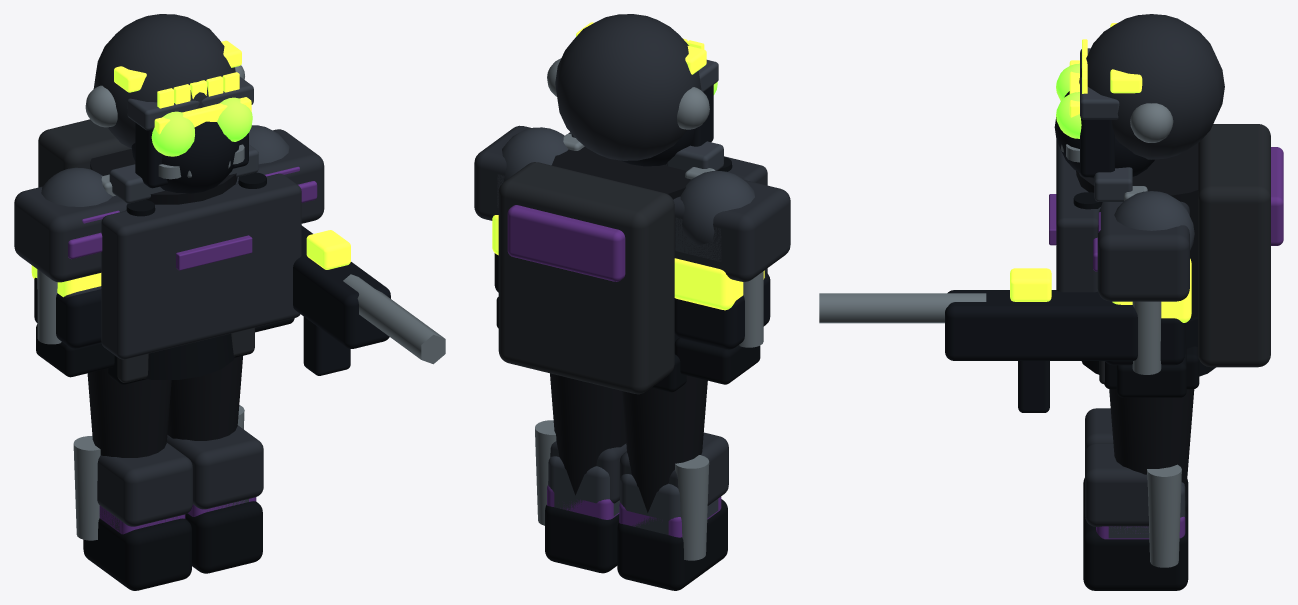
Rendered from sentinel_l05.glb.
3 renders of one model, left to right at view 1: azimuth 30°, elevation 25°; view 2: azimuth 150°, elevation 25°; view 3: azimuth 270°, elevation 25°, orthographic. The views are drawn at different scales.
Parts seen in each view (by area): view 1: tactical_chest_plate, shaped_knee_guard (×2), trouser (×2), boot (×2), rounded_helmet, broad_shoulder_guard (×2), heavy_carbine, enclosed_mask, heavy_barrel, field_pack, shoulder_joint (×2), waist_flex (+20 smaller); view 2: field_pack, rounded_helmet, trouser (×2), boot (×2), broad_shoulder_guard (×2), elite_back_plate, shoulder_joint (×2), knee_plate (×2), shin_frame (×2), forearm_guard, body, shaped_knee_guard (×2) (+13 smaller); view 3: field_pack, rounded_helmet, heavy_carbine, broad_shoulder_guard, trouser, shaped_knee_guard (×2), boot, tactical_chest_plate, heavy_barrel, body, shin_frame, shoulder_joint (+17 smaller).
Boxes of the visible parts, x1,y1,x2,y2 form: tactical_chest_plate: (101, 173, 301, 359); shaped_knee_guard (×2): (97, 425, 263, 526); trouser (×2): (87, 356, 242, 457); boot (×2): (83, 501, 262, 590); rounded_helmet: (93, 14, 235, 148); broad_shoulder_guard (×2): (14, 129, 324, 282); heavy_carbine: (293, 225, 390, 348); enclosed_mask: (131, 121, 239, 193); heavy_barrel: (343, 274, 445, 364); field_pack: (38, 119, 130, 187); shoulder_joint (×2): (41, 125, 289, 206); waist_flex: (144, 333, 234, 379); field_pack: (498, 162, 674, 394); rounded_helmet: (555, 14, 701, 160); trouser (×2): (550, 373, 707, 512); boot (×2): (545, 499, 727, 590); broad_shoulder_guard (×2): (474, 125, 790, 281); elite_back_plate: (507, 205, 625, 281); shoulder_joint (×2): (502, 127, 754, 245); knee_plate (×2): (548, 456, 718, 534); shin_frame (×2): (535, 420, 709, 560); forearm_guard: (674, 271, 770, 349); body: (551, 146, 690, 199); shaped_knee_guard (×2): (550, 432, 728, 505); field_pack: (1198, 124, 1270, 367); rounded_helmet: (1079, 14, 1224, 159); heavy_carbine: (945, 290, 1137, 360); broad_shoulder_guard: (1097, 201, 1189, 301); trouser: (1109, 389, 1194, 500); shaped_knee_guard (×2): (1085, 408, 1148, 526); boot: (1083, 510, 1188, 590); tactical_chest_plate: (1056, 140, 1099, 292); heavy_barrel: (819, 293, 986, 323); body: (1076, 143, 1198, 318); shin_frame: (1147, 464, 1181, 567); shoulder_joint: (1114, 191, 1194, 250).
Bounding box in the file's own units: 1.01 × 1.88 × 1.46.
